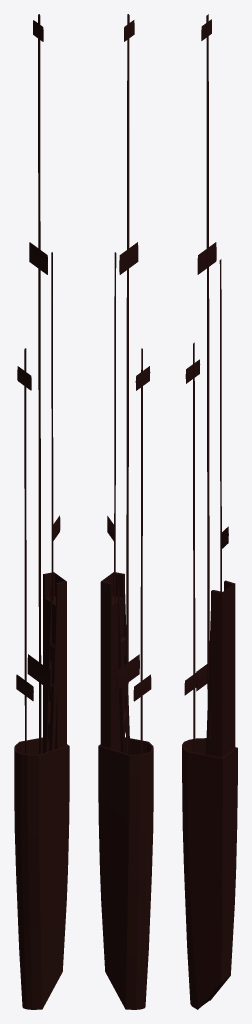
The picture shows the model from 3 angles, left to right: view 1: azimuth 30°, elevation 25°; view 2: azimuth 150°, elevation 25°; view 3: azimuth 330°, elevation 25°; orthographic projection.
Visible parts, largest first — view 1: Ship_(Perahu); view 2: Ship_(Perahu); view 3: Ship_(Perahu).
Part boxes in pixels (x1,y1,x2,y2): Ship_(Perahu): (14, 14, 69, 1009); Ship_(Perahu): (98, 14, 153, 1009); Ship_(Perahu): (182, 14, 237, 1009).
Size of the model in its own units: 2.78 by 56.7 by 2.34.
